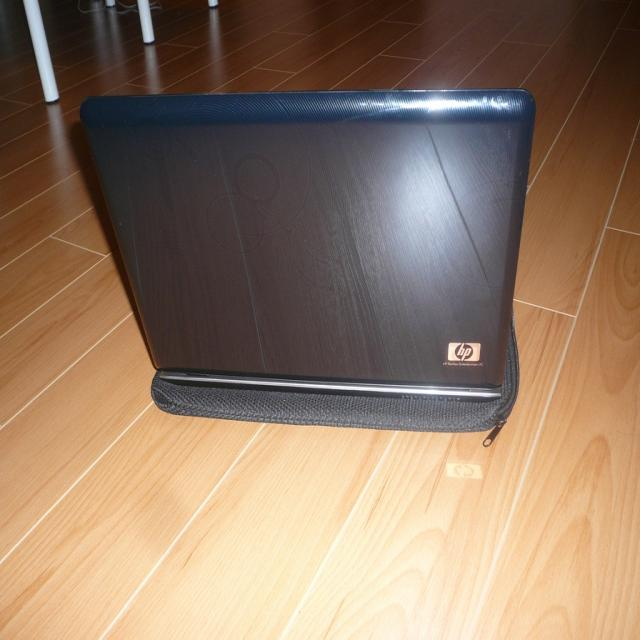HP: (448, 343, 482, 363)
